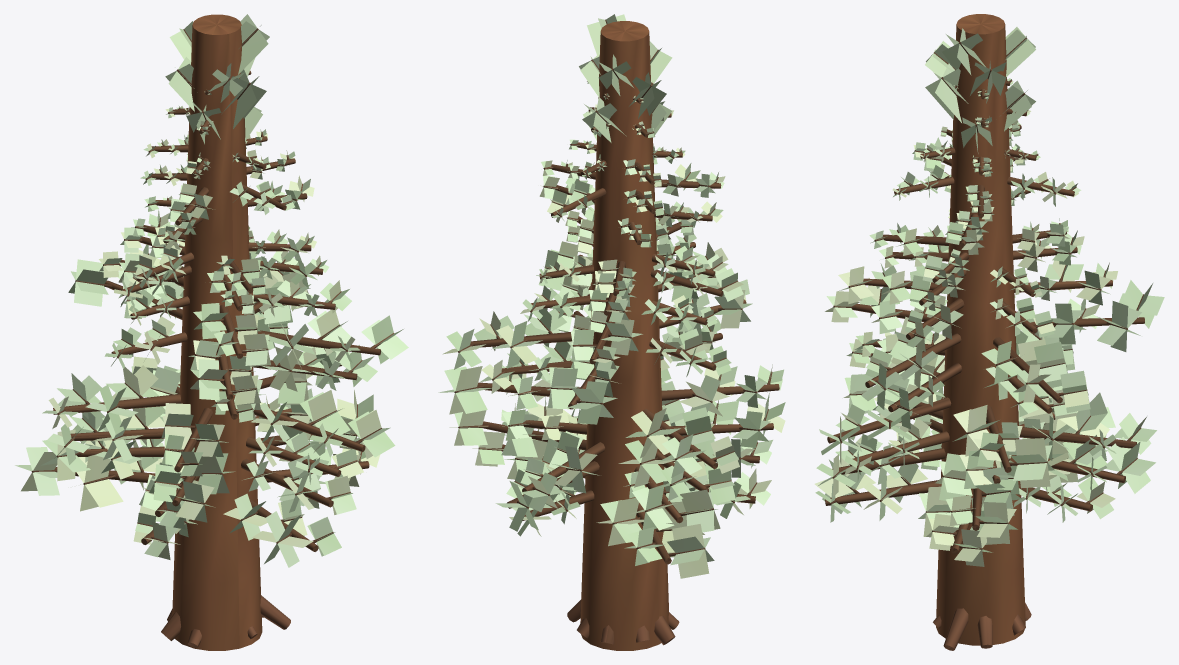
The model's file is mature-lod0.glb.
3 views of the same model, side by side, from view 1: azimuth 30°, elevation 25°; view 2: azimuth 150°, elevation 25°; view 3: azimuth 270°, elevation 25° (orthographic).
Parts seen in each view (by area): view 1: pine-terminal-needle-sprigs, pine-trunk-branches-buried-roots-ground-blend; view 2: pine-terminal-needle-sprigs, pine-trunk-branches-buried-roots-ground-blend; view 3: pine-terminal-needle-sprigs, pine-trunk-branches-buried-roots-ground-blend.
Part boxes in pixels (box(x1,y1,x2,y2)): pine-terminal-needle-sprigs: box(15, 14, 408, 567); pine-trunk-branches-buried-roots-ground-blend: box(31, 14, 394, 650); pine-terminal-needle-sprigs: box(438, 14, 785, 578); pine-trunk-branches-buried-roots-ground-blend: box(454, 19, 779, 650); pine-terminal-needle-sprigs: box(814, 27, 1164, 566); pine-trunk-branches-buried-roots-ground-blend: box(825, 14, 1144, 650).
Size of the model in its own units: 13.19 by 24.55 by 12.82.
